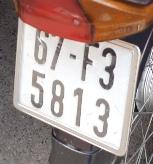1: (71, 85, 87, 129)
3: (98, 44, 117, 91), (93, 96, 113, 139)
5: (29, 68, 46, 112)
6: (32, 24, 49, 66)
7: (49, 30, 66, 74)
8: (50, 76, 66, 118)
F: (80, 37, 99, 83)
